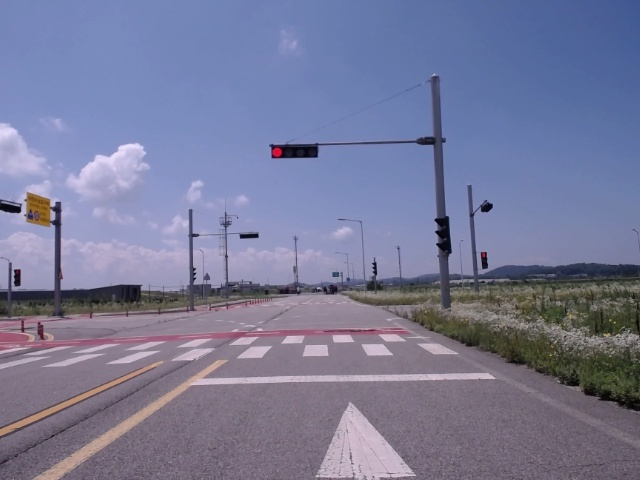red_4: (271, 146, 318, 158)
